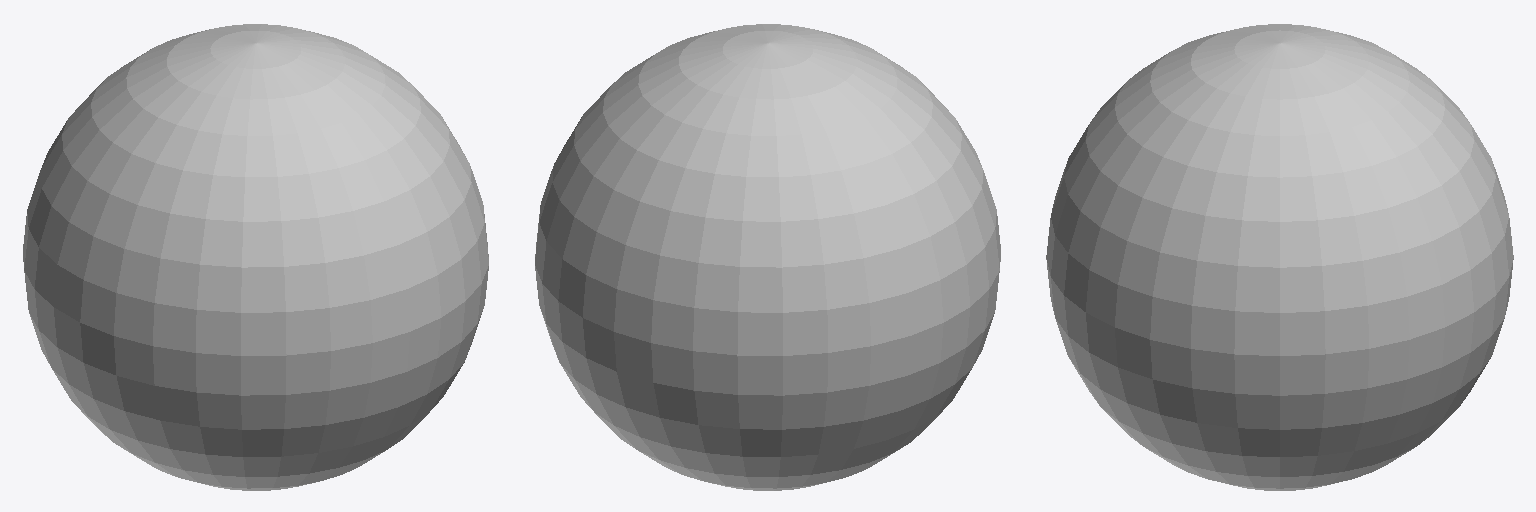
The model's file is earth.obj.
3 views of the same model, side by side, from view 1: azimuth 30°, elevation 25°; view 2: azimuth 150°, elevation 25°; view 3: azimuth 270°, elevation 25° (orthographic).
Visible parts, largest first — view 1: Sphere; view 2: Sphere; view 3: Sphere.
Part boxes in pixels (x1,y1,x2,y2): Sphere: (23, 24, 488, 490); Sphere: (535, 24, 1000, 490); Sphere: (1046, 24, 1513, 490).
Size of the model in its own units: 2 by 2.01 by 2.